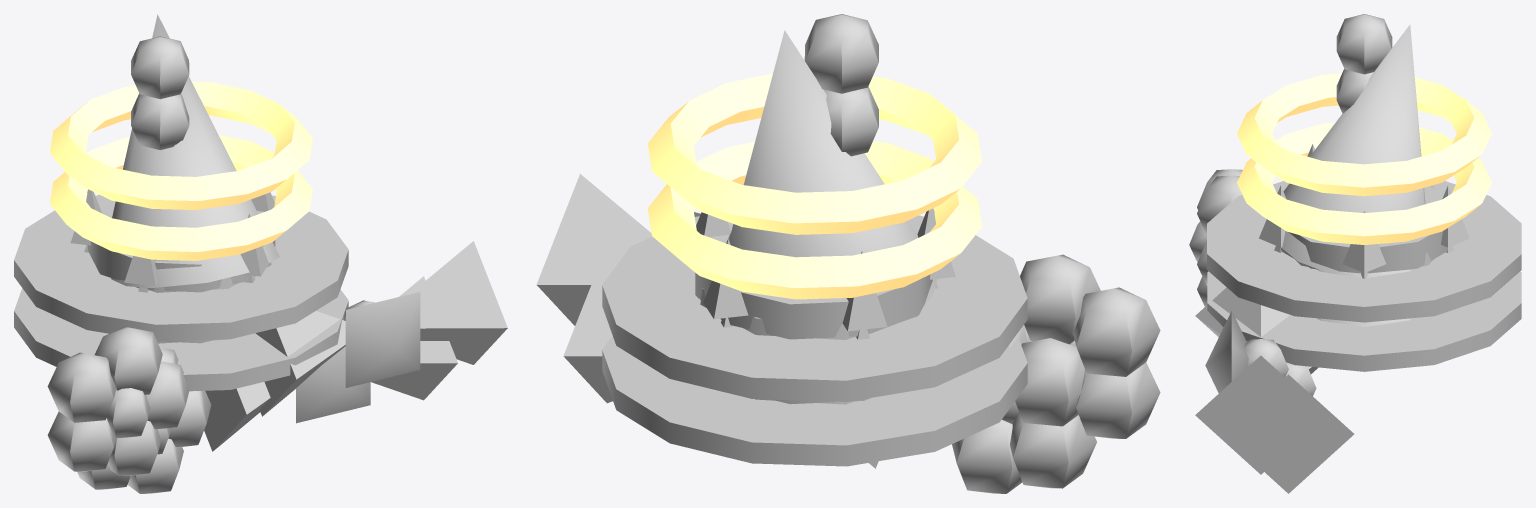
The model's file is ani_pet_hats.glb.
The picture shows the model from 3 angles, left to right: view 1: azimuth 30°, elevation 25°; view 2: azimuth 150°, elevation 25°; view 3: azimuth 270°, elevation 25°; orthographic projection. The views are drawn at different scales.
Visible parts, largest first — view 1: INST_ani_pet_hats_witch_cat, INST_ani_pet_hats_flower_cat, INST_ani_pet_hats_halo_cat, INST_ani_pet_hats_halo_bunny, INST_ani_pet_hats_bow_cat, INST_ani_pet_hats_witch_bunny, INST_ani_pet_hats_star_cat, INST_ani_pet_hats_bow_bunny, INST_ani_pet_hats_flower_bunny, INST_ani_pet_hats_star_bunny, INST_ani_pet_hats_party_cat, INST_ani_pet_hats_party_bunny (+1 smaller); view 2: INST_ani_pet_hats_witch_cat, INST_ani_pet_hats_witch_bunny, INST_ani_pet_hats_halo_cat, INST_ani_pet_hats_halo_bunny, INST_ani_pet_hats_flower_cat, INST_ani_pet_hats_flower_bunny, INST_ani_pet_hats_bow_cat, INST_ani_pet_hats_party_cat, INST_ani_pet_hats_crown_cat, INST_ani_pet_hats_bow_bunny, INST_ani_pet_hats_party_bunny; view 3: INST_ani_pet_hats_witch_cat, INST_ani_pet_hats_halo_cat, INST_ani_pet_hats_witch_bunny, INST_ani_pet_hats_bow_cat, INST_ani_pet_hats_halo_bunny, INST_ani_pet_hats_bow_bunny, INST_ani_pet_hats_party_cat, INST_ani_pet_hats_flower_cat, INST_ani_pet_hats_crown_cat, INST_ani_pet_hats_star_cat, INST_ani_pet_hats_party_bunny.
Part boxes in pixels (x1,y1,x2,y2): INST_ani_pet_hats_witch_cat: [14, 14, 348, 341]; INST_ani_pet_hats_flower_cat: [47, 326, 189, 475]; INST_ani_pet_hats_halo_cat: [50, 81, 312, 210]; INST_ani_pet_hats_halo_bunny: [50, 134, 312, 260]; INST_ani_pet_hats_bow_cat: [255, 241, 507, 416]; INST_ani_pet_hats_witch_bunny: [14, 288, 348, 391]; INST_ani_pet_hats_star_cat: [345, 292, 420, 387]; INST_ani_pet_hats_bow_bunny: [204, 276, 457, 451]; INST_ani_pet_hats_flower_bunny: [77, 347, 211, 493]; INST_ani_pet_hats_star_bunny: [296, 346, 370, 423]; INST_ani_pet_hats_party_cat: [131, 36, 189, 147]; INST_ani_pet_hats_party_bunny: [131, 93, 189, 149]; INST_ani_pet_hats_witch_cat: [602, 30, 1027, 401]; INST_ani_pet_hats_witch_bunny: [602, 336, 1027, 466]; INST_ani_pet_hats_halo_cat: [647, 73, 981, 234]; INST_ani_pet_hats_halo_bunny: [647, 141, 981, 299]; INST_ani_pet_hats_flower_cat: [1020, 254, 1160, 438]; INST_ani_pet_hats_flower_bunny: [952, 325, 1096, 493]; INST_ani_pet_hats_bow_cat: [536, 174, 652, 325]; INST_ani_pet_hats_party_cat: [726, 14, 878, 243]; INST_ani_pet_hats_crown_cat: [696, 208, 955, 339]; INST_ani_pet_hats_bow_bunny: [563, 245, 878, 468]; INST_ani_pet_hats_party_bunny: [823, 86, 878, 156]; INST_ani_pet_hats_witch_cat: [1207, 24, 1521, 322]; INST_ani_pet_hats_halo_cat: [1237, 73, 1491, 196]; INST_ani_pet_hats_witch_bunny: [1207, 271, 1521, 371]; INST_ani_pet_hats_bow_cat: [1195, 287, 1326, 474]; INST_ani_pet_hats_halo_bunny: [1237, 122, 1491, 244]; INST_ani_pet_hats_bow_bunny: [1264, 362, 1354, 493]; INST_ani_pet_hats_party_cat: [1317, 14, 1411, 277]; INST_ani_pet_hats_flower_cat: [1189, 169, 1242, 306]; INST_ani_pet_hats_crown_cat: [1259, 144, 1469, 272]; INST_ani_pet_hats_star_cat: [1205, 311, 1248, 393]; INST_ani_pet_hats_party_bunny: [1317, 69, 1411, 326].
Size of the model in its own units: 0.3256 by 0.2904 by 0.2268.
